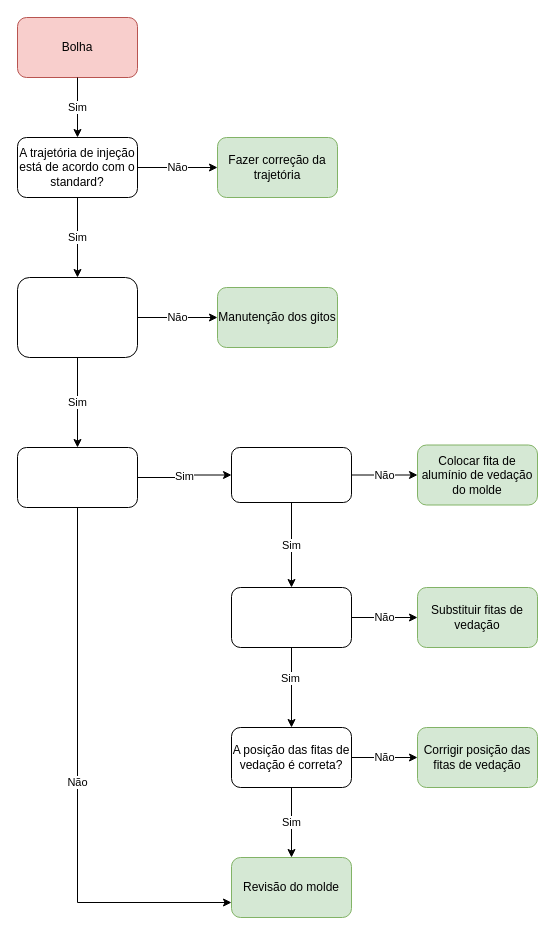
Image size: 555x935. Some labels were removed from this diagram. Each missing label, with the centre of its shape:
"As fitas de vedação estão em bom estado?" goes at point (291, 617).
"Existem anomalias visíveis na vedação do molde?" goes at point (77, 477).
"Existem fitas de vedação no molde?" goes at point (291, 474).
"O estado de funcionamento dos gitos de desgaseificação é o correto?" goes at point (77, 317).
